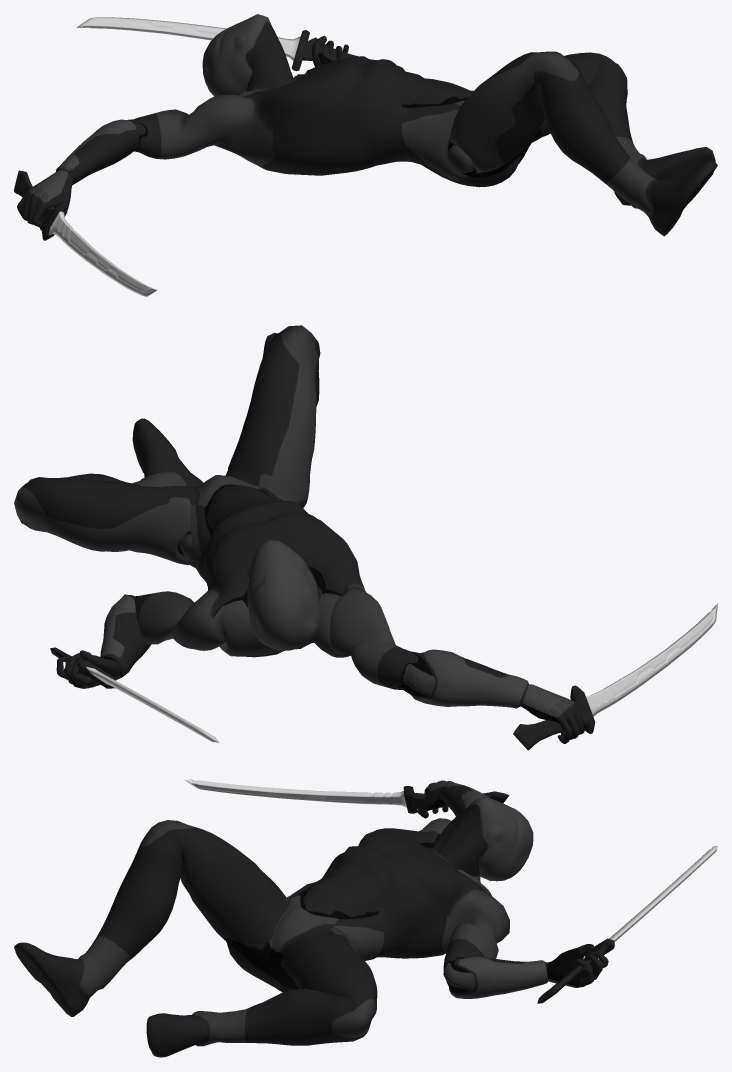
3 views of the same model, one above another, from view 1: azimuth 30°, elevation 25°; view 2: azimuth 150°, elevation 25°; view 3: azimuth 270°, elevation 25° (orthographic). The views are drawn at different scales.
Visible parts, largest first — view 1: Cyborg_Ninja_Killer, Sword_l, Sword_l001; view 2: Cyborg_Ninja_Killer, Sword_l001, Sword_l; view 3: Cyborg_Ninja_Killer, Sword_l001, Sword_l.
Part boxes in pixels (bbox=[...]): Cyborg_Ninja_Killer: bbox=[17, 14, 717, 236]; Sword_l: bbox=[76, 17, 376, 71]; Sword_l001: bbox=[14, 170, 157, 296]; Cyborg_Ninja_Killer: bbox=[14, 325, 589, 743]; Sword_l001: bbox=[513, 603, 717, 750]; Sword_l: bbox=[50, 647, 218, 742]; Cyborg_Ninja_Killer: bbox=[14, 780, 608, 1057]; Sword_l001: bbox=[184, 779, 509, 813]; Sword_l: bbox=[537, 846, 717, 1003].
Bounding box in the file's own units: 176 × 54.69 × 192.
2 materials, 2 textured.
